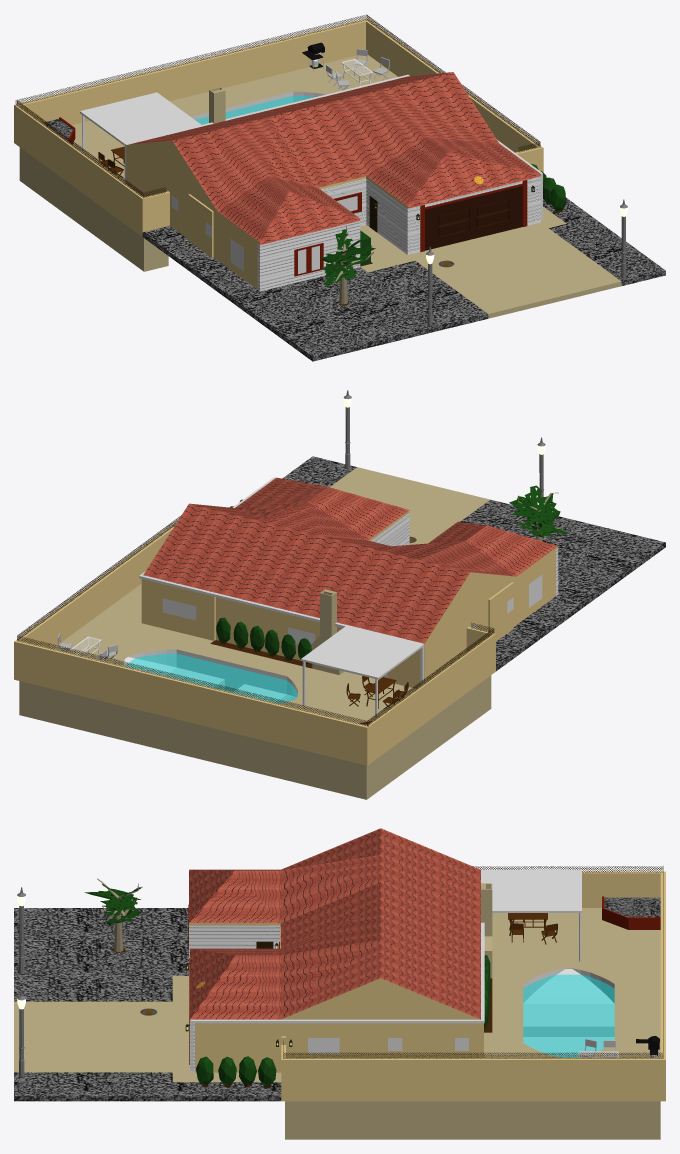
Rendered from 308 Negra Arroyo Lane.glb.
3 renders of one model, top to bottom at view 1: azimuth 30°, elevation 25°; view 2: azimuth 150°, elevation 25°; view 3: azimuth 270°, elevation 25°, orthographic. The views are drawn at different scales.
Parts seen in each view (by area): view 1: Roof, Yard, Backyard Fence, Ext Walls, Driveway, Patio, Garage Door, Fence, Overhang, Bracing, Leaves, Streetlight (+4 smaller); view 2: Roof, Patio, Backyard Fence, Ext Walls, Yard, Driveway, Overhang, Water, Fence, Leaves.002, Leaves, Fireplace (+1 smaller); view 3: Roof, Patio, Yard, Backyard Fence, Driveway, Ext Walls, Water, Overhang, Fence, Planter, Leaves.001, Leaves (+3 smaller).
Part boxes in pixels (x1=…): Roof: x1=124, y1=72, x2=542, y2=245; Yard: x1=142, y1=197, x2=665, y2=361; Backyard Fence: x1=14, y1=19, x2=543, y2=236; Ext Walls: x1=126, y1=148, x2=540, y2=291; Driveway: x1=360, y1=206, x2=621, y2=318; Patio: x1=19, y1=55, x2=397, y2=271; Garage Door: x1=425, y1=186, x2=522, y2=250; Fence: x1=15, y1=14, x2=540, y2=198; Overhang: x1=80, y1=92, x2=201, y2=152; Bracing: x1=294, y1=180, x2=527, y2=276; Leaves: x1=320, y1=229, x2=375, y2=286; Streetlight: x1=426, y1=199, x2=627, y2=325; Roof: x1=139, y1=477, x2=558, y2=685; Patio: x1=19, y1=584, x2=491, y2=799; Backyard Fence: x1=14, y1=522, x2=495, y2=765; Ext Walls: x1=141, y1=513, x2=558, y2=688; Yard: x1=282, y1=456, x2=665, y2=671; Driveway: x1=330, y1=467, x2=489, y2=544; Overhang: x1=301, y1=626, x2=422, y2=717; Water: x1=125, y1=653, x2=297, y2=703; Fence: x1=17, y1=515, x2=494, y2=726; Leaves.002: x1=216, y1=617, x2=311, y2=664; Leaves: x1=509, y1=485, x2=566, y2=537; Fireplace: x1=312, y1=589, x2=344, y2=674; Roof: x1=189, y1=828, x2=484, y2=1070; Patio: x1=285, y1=908, x2=660, y2=1139; Yard: x1=14, y1=908, x2=281, y2=1101; Backyard Fence: x1=281, y1=871, x2=665, y2=1101; Driveway: x1=14, y1=976, x2=281, y2=1082; Ext Walls: x1=189, y1=925, x2=483, y2=1072; Water: x1=523, y1=974, x2=614, y2=1057; Overhang: x1=484, y1=869, x2=581, y2=961; Fence: x1=283, y1=866, x2=663, y2=1058; Planter: x1=602, y1=896, x2=660, y2=929; Leaves.001: x1=196, y1=1056, x2=276, y2=1088; Leaves: x1=84, y1=884, x2=142, y2=923.
Size of what is drawn, in the model's own units: 23.73 by 8.2 by 34.74.
Materials: 35 (3 with a texture image).
